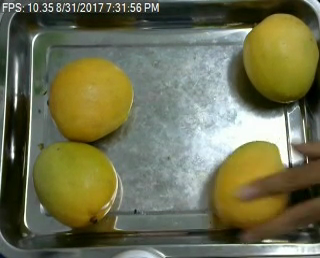Mango: (48, 58, 135, 141), (33, 143, 119, 226), (241, 13, 318, 102), (211, 140, 290, 223)
